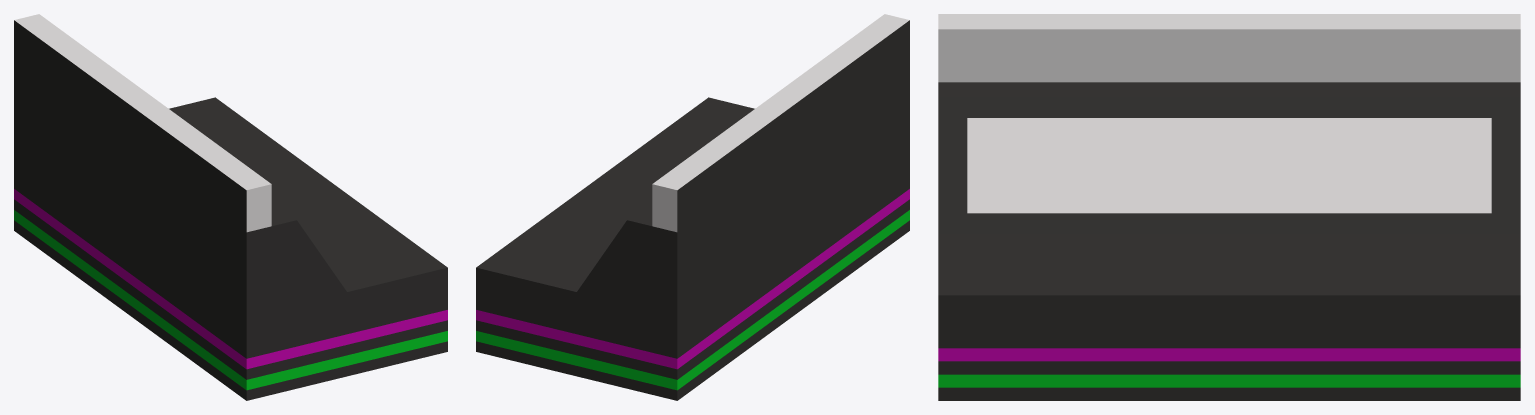
Rendered from Booth Straight.fbx.
3 views of the same model, side by side, from view 1: azimuth 30°, elevation 25°; view 2: azimuth 150°, elevation 25°; view 3: azimuth 270°, elevation 25° (orthographic). The views are drawn at different scales.
Parts seen in each view (by area): view 1: Booth Straight; view 2: Booth Straight; view 3: Booth Straight.
Boxes of the visible parts, x1=… form: Booth Straight: x1=14, y1=14, x2=447, y2=400; Booth Straight: x1=476, y1=14, x2=909, y2=400; Booth Straight: x1=938, y1=14, x2=1520, y2=400.
Size of the model in its own units: 1000 by 1000 by 2000.
